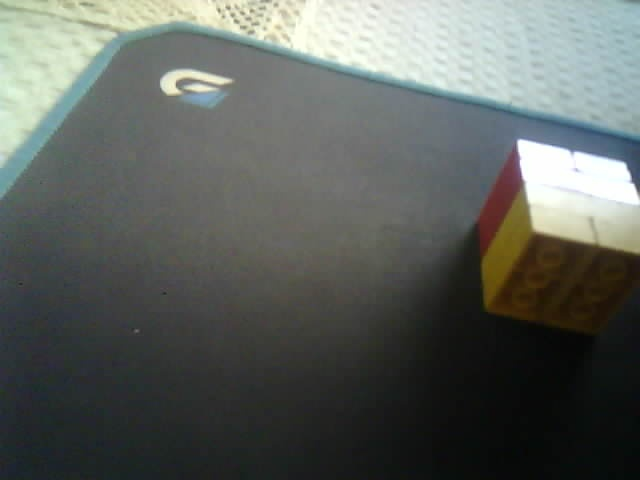lego: (475, 137, 640, 334)
